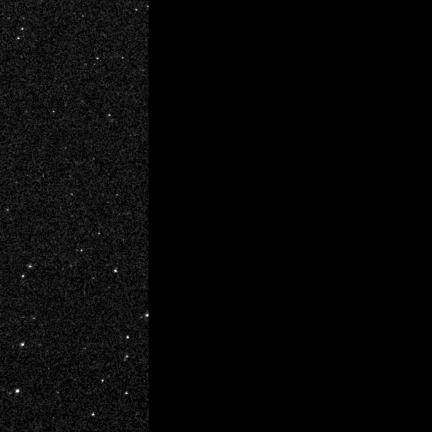blob: (15, 389, 19, 393), (20, 343, 24, 346), (127, 336, 130, 340), (146, 314, 149, 318), (22, 275, 25, 279), (92, 413, 95, 417), (102, 380, 105, 383), (114, 270, 117, 272), (125, 392, 128, 394)
